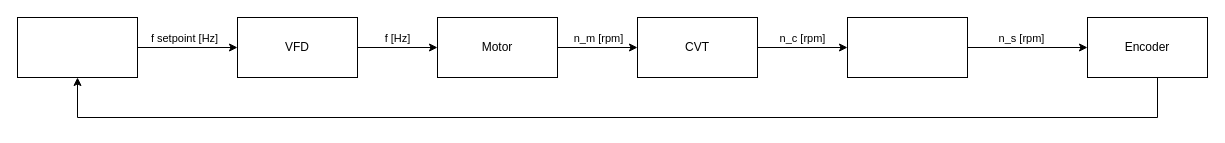
Image size: 1225x143. Some labels were removed from this diagram. Each missing label, with the box of its shape:
Gearbox: (846, 16, 968, 78)
LinuxCNC: (16, 16, 138, 78)
